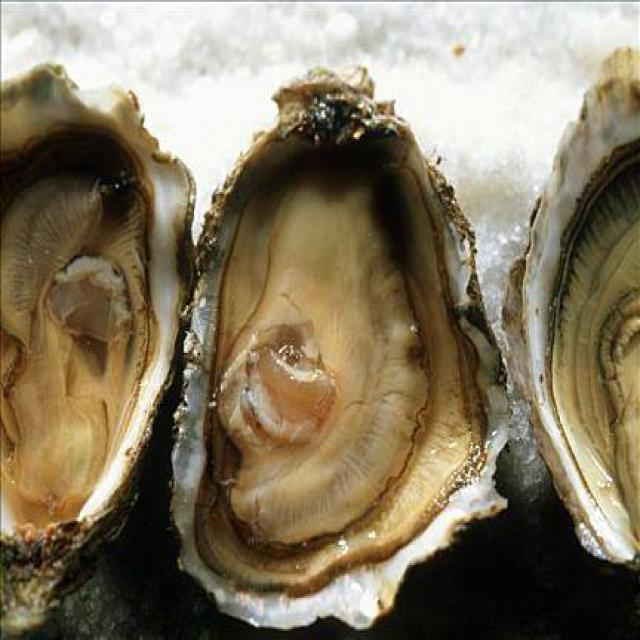Oyster-Open: (166, 60, 518, 640), (0, 56, 200, 640), (500, 47, 640, 570)
